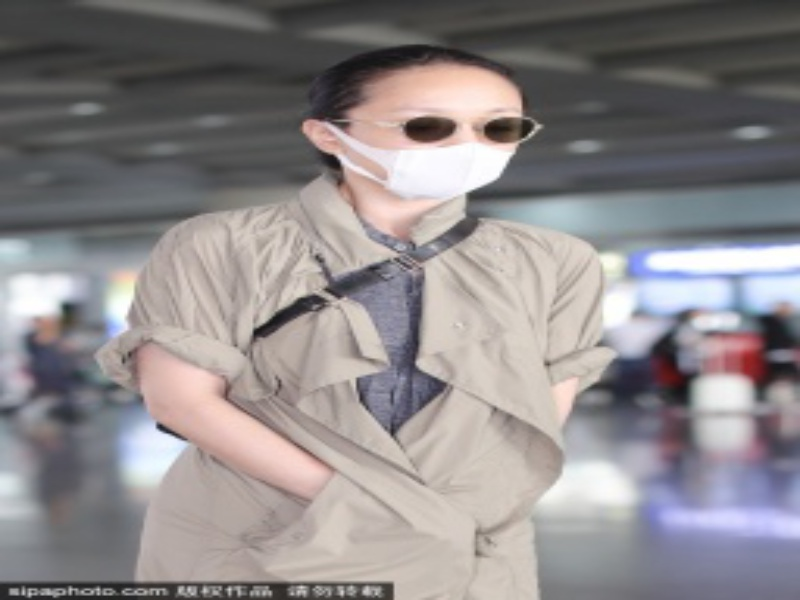ManaoArotava: (306, 48, 563, 228)
